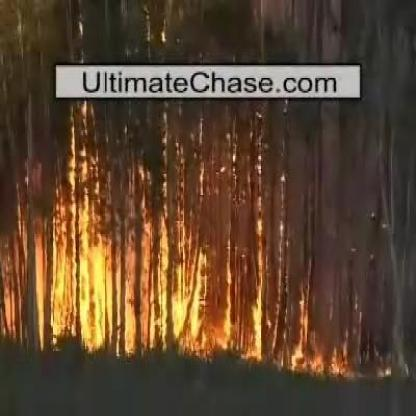foggia-v2-map80-epoch100 - v1 4323: (82, 241, 110, 344), (172, 280, 203, 338)
